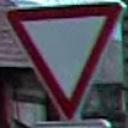preferencia: (5, 0, 123, 124)
